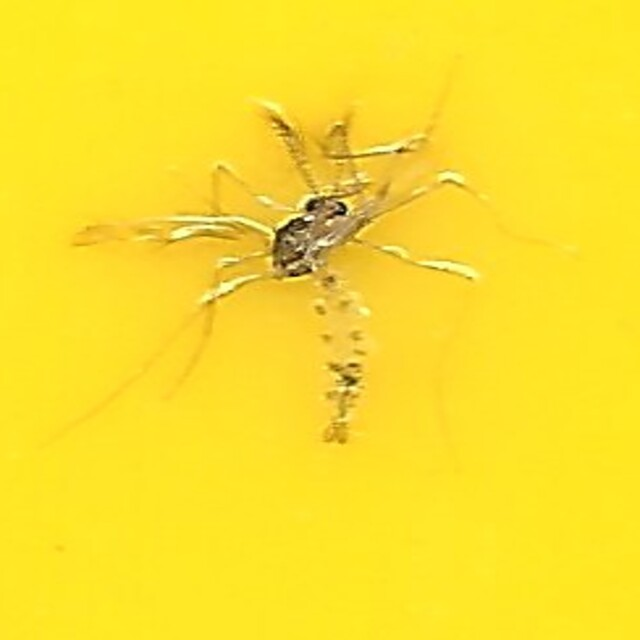Nematocera: (262, 192, 378, 448)
